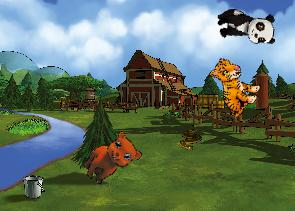bear: (78, 125, 146, 195)
panda: (214, 7, 277, 46)
tiger: (197, 54, 267, 121)
